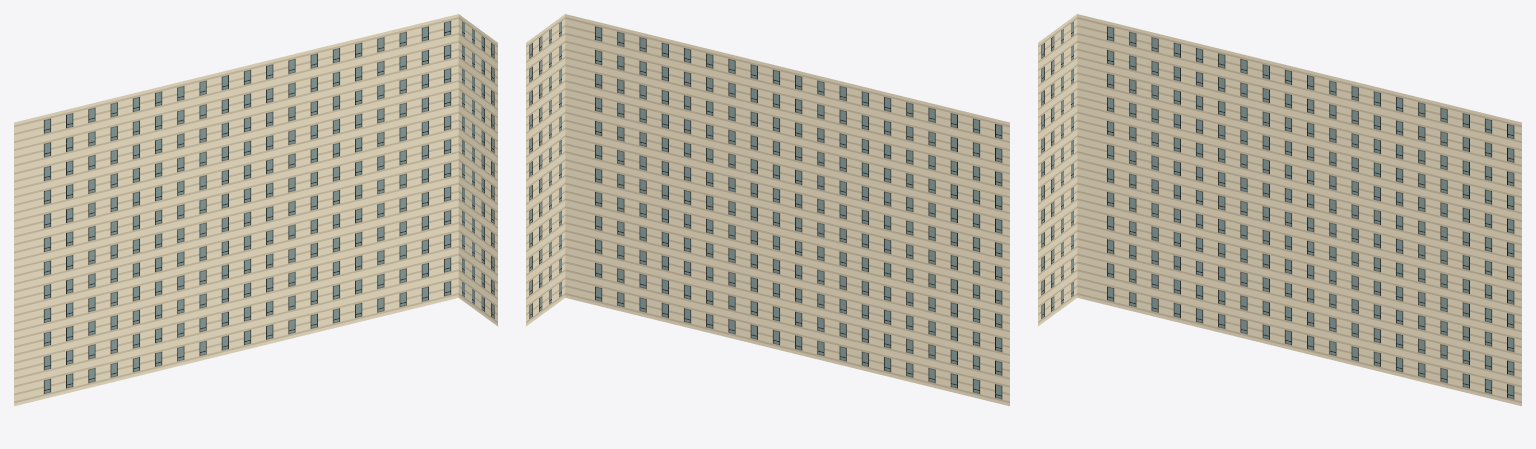
3 renders of one model, left to right at view 1: azimuth 30°, elevation 25°; view 2: azimuth 150°, elevation 25°; view 3: azimuth 330°, elevation 25°, orthographic.
Size of the model in its own units: 59 by 36 by 9.
2 materials, 1 textured.
